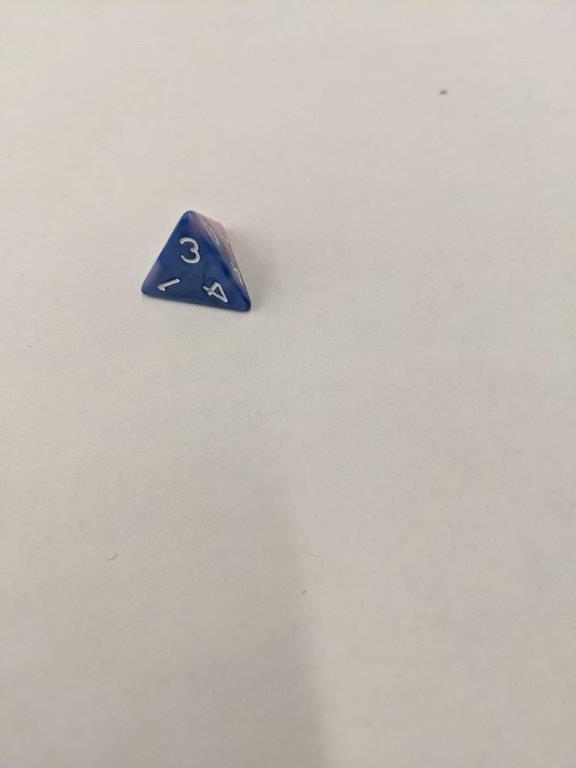d4-3: (137, 206, 257, 318)
